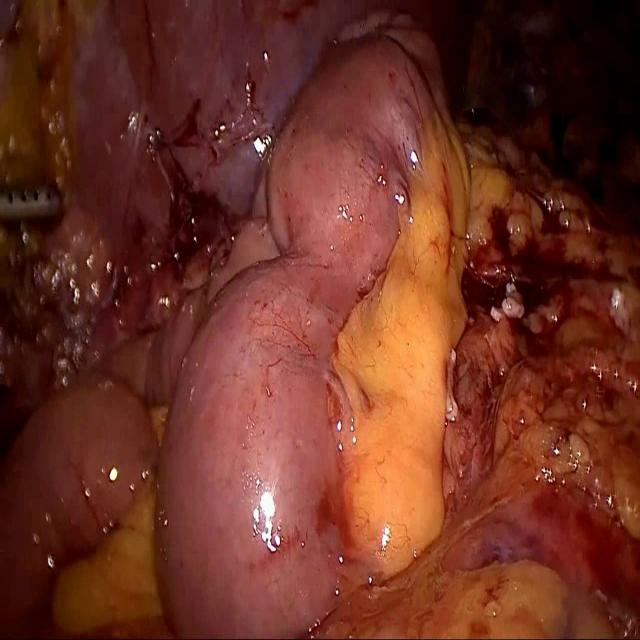surgical-tool: (0, 180, 62, 221)
